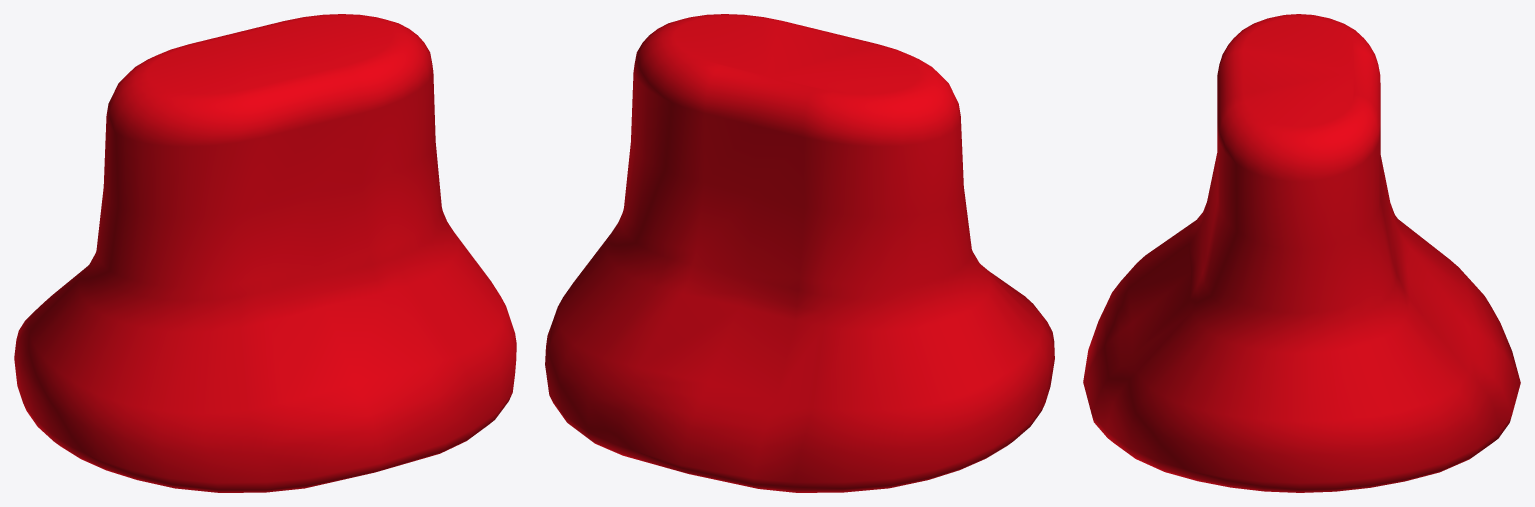
File: Sucker tool1 (1).fbx
3 renders of one model, left to right at view 1: azimuth 30°, elevation 25°; view 2: azimuth 150°, elevation 25°; view 3: azimuth 270°, elevation 25°, orthographic. The views are drawn at different scales.
Visible parts, largest first — view 1: Sucker Tool; view 2: Sucker Tool; view 3: Sucker Tool.
Part boxes in pixels (x1=…): Sucker Tool: x1=14, y1=14, x2=516, y2=492; Sucker Tool: x1=545, y1=14, x2=1054, y2=492; Sucker Tool: x1=1083, y1=14, x2=1520, y2=492.
Size of the model in its own units: 153 by 115 by 139.
1 material, 1 textured.
